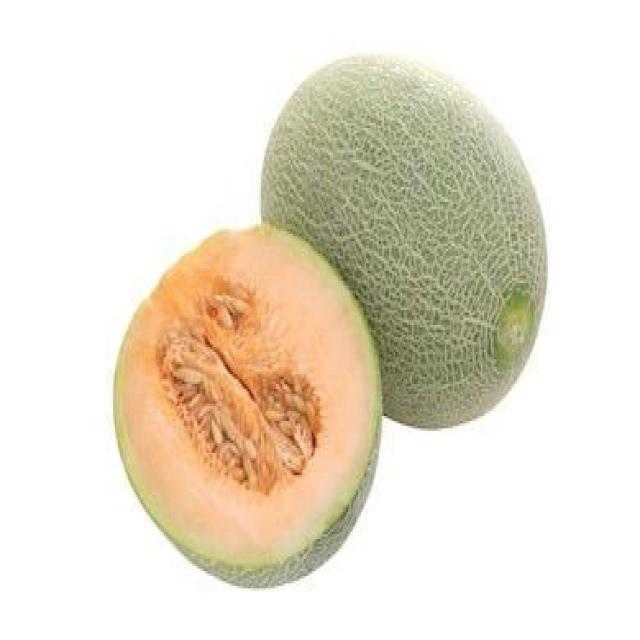cantaloupe: (259, 56, 544, 430), (114, 223, 384, 591)
